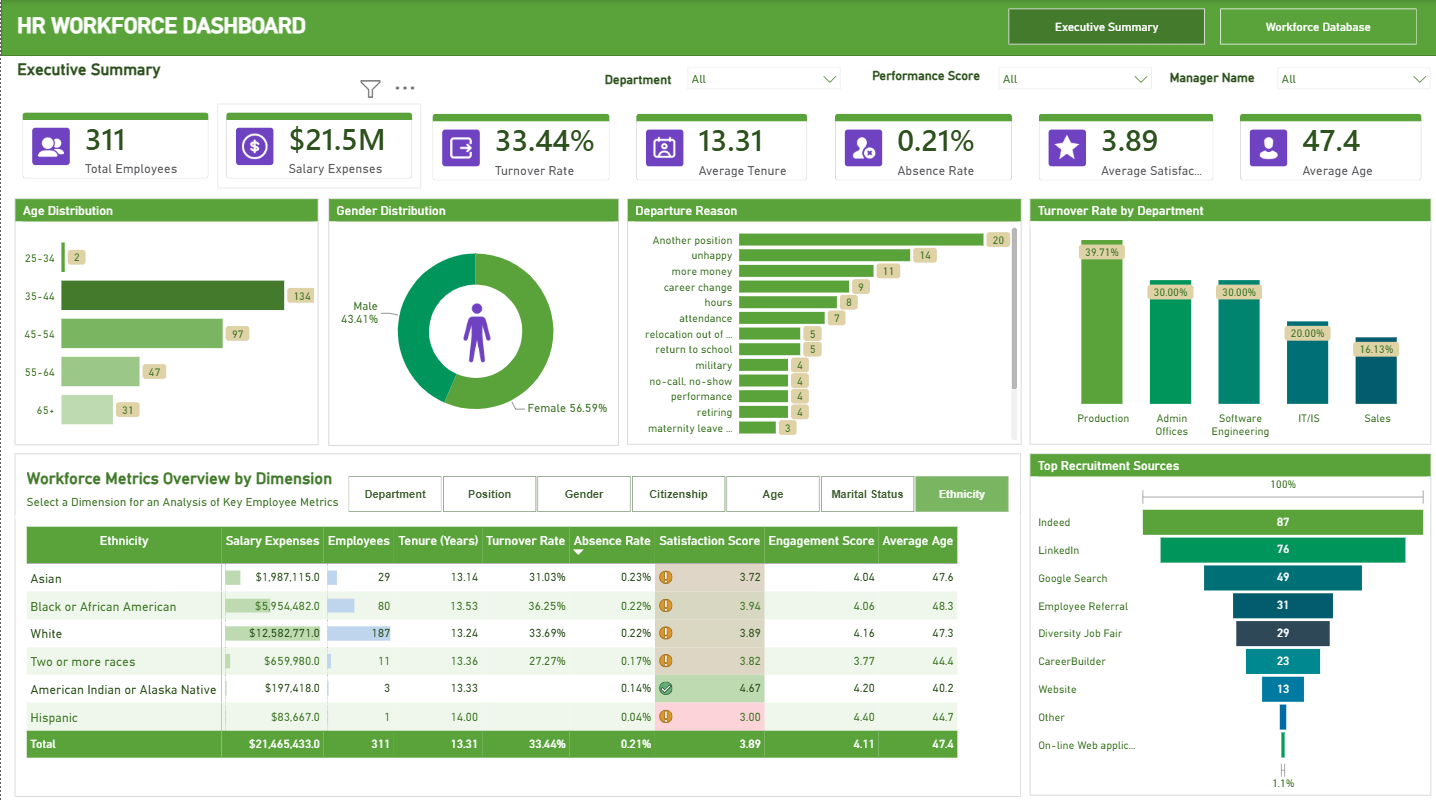

Layout of this report page (visuals, bound fields, positions):
{"tool":"powerbi","page":{"name":"Executive Summary","canvas":[1920,1080],"ordinal":0},"visuals":[{"type":"shape","box":[0,0,1920,80],"z":0},{"type":"shape","box":[0,0,1920,80],"z":1000},{"type":"cardVisual","fields":{"Data":["Employee.Total Employees"]},"box":[16,144,272,112],"z":2000},{"type":"cardVisual","fields":{"Data":["Employee.Avg. Tenure"]},"box":[835.3,145.3,252.6,113.7],"z":3000},{"type":"cardVisual","fields":{"Data":["Employee.Turnover Rate"]},"box":[563.2,145.3,260.5,113.7],"z":4000},{"type":"cardVisual","fields":{"Data":["Employee.Salary Expenses"]},"box":[288,144,272,112],"z":5000},{"type":"cardVisual","fields":{"Data":["Employee.Avg. Absenteeism Rate","select"]},"box":[1099.5,145.3,260.5,113.7],"z":6000},{"type":"donutChart","title":"Gender Distribution","fields":{"Y":["Employee.Total Employees"],"Category":["Employee.Gender"]},"box":[436.6,269.3,386.9,329.5],"z":6000,"group":"g1"},{"type":"clusteredColumnChart","title":"Turnover Rate by Department","fields":{"Category":["Department.Department"],"Y":["Employee.Turnover Rate"]},"box":[1371.9,269.3,535.4,328.2],"z":7000},{"type":"cardVisual","fields":{"Data":["Employee.Avg. Satisfaction Score"]},"box":[1371.6,145.3,257.4,113.7],"z":8000},{"type":"image","box":[616.7,407.1,35.7,81.6],"z":8000,"group":"g1"},{"type":"cardVisual","fields":{"Data":["Employee.Avg. Age"]},"box":[1640.5,145.3,266.8,113.7],"z":9000},{"type":"barChart","title":"Age Distribution","fields":{"Category":["Employee.Age Category","Department.Department"],"Y":["Employee.Total Employees"]},"box":[18.7,269.3,405,328.6],"z":10000},{"type":"pageNavigator","box":[1344,16,544,48],"z":11000},{"type":"textbox","box":[16,80,304,48],"z":12000},{"type":"pivotTable","title":"Workforce Metrics Overview by Dimension","fields":{"Rows":["Employee.RaceDesc"],"Values":["Employee.Salary Expenses","Employee.Total Employees","Employee.Avg. Tenure","Employee.Turnover Rate","Employee.Avg. Absenteeism Rate","Employee.Avg. Satisfaction Score","Employee.Avg. Engagement Score","Employee.Avg. Age"]},"box":[19.1,610.3,1341.6,457.3],"z":14000},{"type":"funnel","title":"Top Recruitment Sources","fields":{"Category":["Employee.RecruitmentSource"],"Y":["Employee.Total Employees"]},"box":[1371.9,610.3,535.4,455.7],"z":15000},{"type":"group","id":"g1","title":"Group 1","box":[436.6,269.3,387.2,328.2],"z":16000},{"type":"advancedSlicerVisual","fields":{"Values":["Dimension.Parameter"]},"box":[464,640,880,48],"z":17000},{"type":"barChart","title":"Departure Reason","fields":{"Category":["Employee.TerminationReason"],"Y":["Employee.Total Employees"]},"box":[834.9,269.3,525.8,328.2],"z":18000},{"type":"textbox","box":[1553.7,93.1,137.8,34.1],"z":19000},{"type":"slicer","fields":{"Values":["Department.Department"]},"box":[905.2,85.1,224.5,46.5],"z":20000},{"type":"textbox","box":[800,96,112,48],"z":21000},{"type":"slicer","fields":{"Values":["Performance.PerformanceScore"]},"box":[1319.7,85.2,224.5,46.5],"z":22000},{"type":"textbox","box":[1156.3,91.8,163.7,33.3],"z":23000},{"type":"slicer","fields":{"Values":["Employee.ManagerName"]},"box":[1691.5,85.2,224.5,46.5],"z":24000},{"type":"textbox","box":[17,16,674.3,45.2],"z":25000}]}

Visuals, with their boxes in screenshot pixels (x1, y1, x2, y2), scaled from the page's 1920x1080 canvas onto the 1436x801 screenshot:
shape: [0, 0, 1435, 59]
shape: [0, 0, 1435, 59]
cardVisual - Employee.Total Employees: [12, 107, 215, 190]
cardVisual - Employee.Avg. Tenure: [625, 108, 814, 192]
cardVisual - Employee.Turnover Rate: [421, 108, 616, 192]
cardVisual - Employee.Salary Expenses: [215, 107, 419, 190]
cardVisual - Employee.Avg. Absenteeism Rate x select: [822, 108, 1017, 192]
"Gender Distribution" donutChart: [327, 200, 616, 444]
"Turnover Rate by Department" clusteredColumnChart: [1026, 200, 1427, 443]
cardVisual - Employee.Avg. Satisfaction Score: [1026, 108, 1218, 192]
image: [461, 302, 488, 362]
cardVisual - Employee.Avg. Age: [1227, 108, 1427, 192]
"Age Distribution" barChart: [14, 200, 317, 443]
pageNavigator: [1005, 12, 1412, 47]
textbox: [12, 59, 239, 95]
"Workforce Metrics Overview by Dimension" pivotTable: [14, 453, 1018, 792]
"Top Recruitment Sources" funnel: [1026, 453, 1427, 791]
"Group 1" group: [327, 200, 616, 443]
advancedSlicerVisual - Dimension.Parameter: [347, 475, 1005, 510]
"Departure Reason" barChart: [624, 200, 1018, 443]
textbox: [1162, 69, 1265, 94]
slicer - Department.Department: [677, 63, 845, 98]
textbox: [598, 71, 682, 107]
slicer - Performance.PerformanceScore: [987, 63, 1155, 98]
textbox: [865, 68, 987, 93]
slicer - Employee.ManagerName: [1265, 63, 1433, 98]
textbox: [13, 12, 517, 45]
